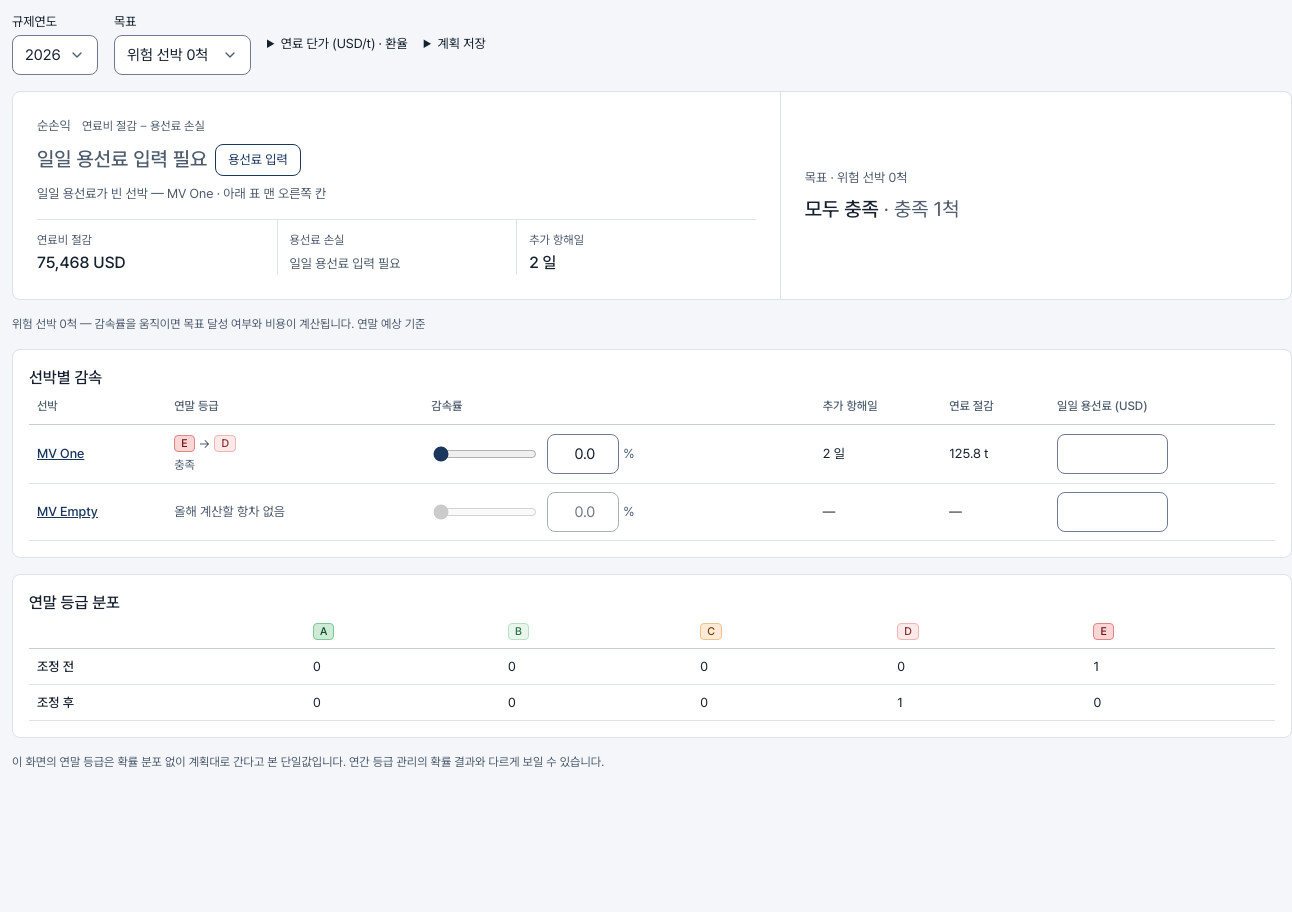
Test: 함대 감축 계획 화면 — 실패해도 빠져나올 수 있다 (#1069) › ⚠️ 계산이 실패해도 마지막 결과와 입력 칸이 남고, 그 사실을 적고, 다시 시도할 수 있다
The image size is (1292, 912).
Set the slider named "MV One 감속률" to "10" at (459,454), box 433,446 -> 537,462
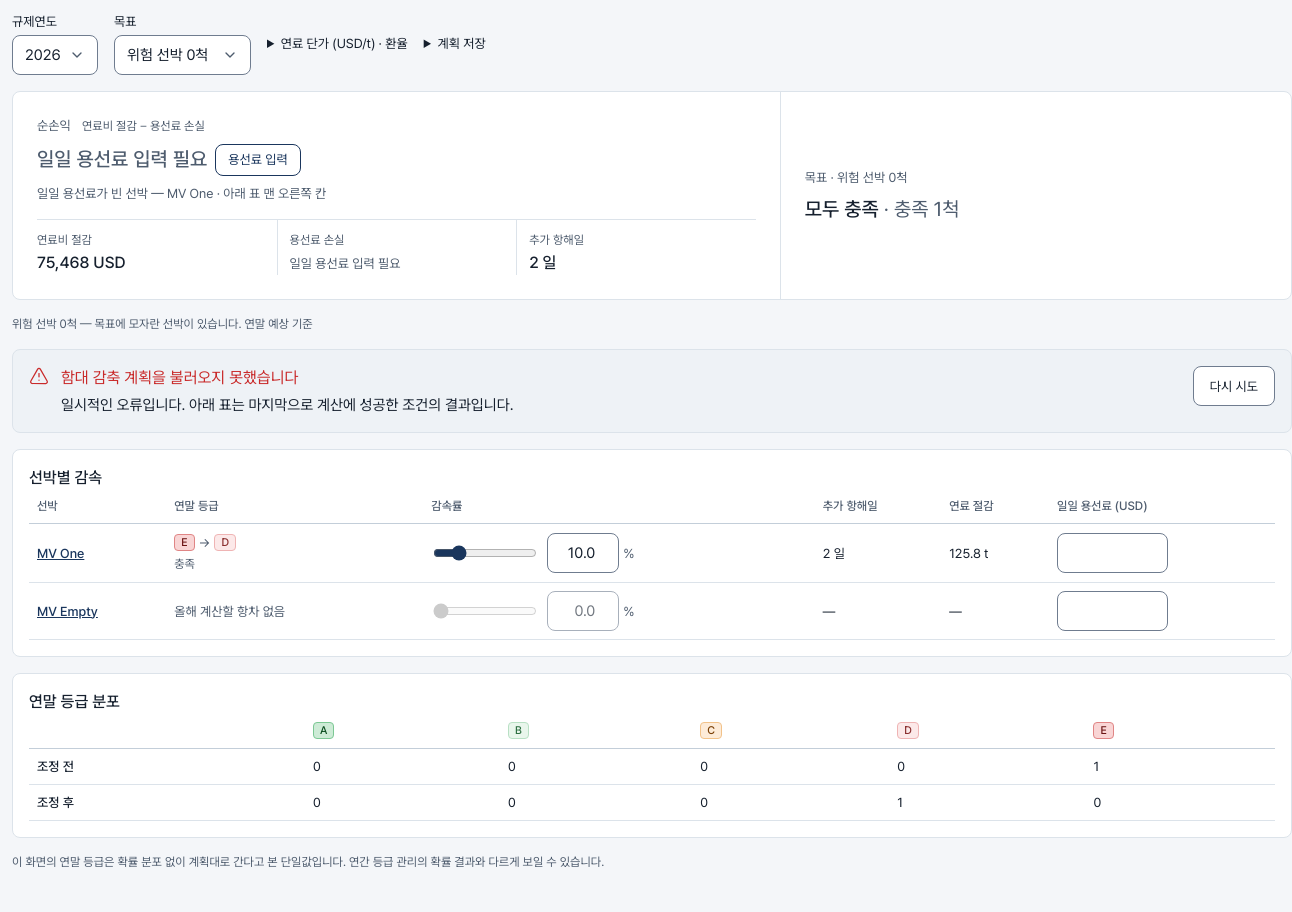
Result: the message "함대 감축 계획을 불러오지 못했습니다 일시적인 오류입니다. 아래 표는 마지막으로 계산에 성공한 조건의 결과입니다. 다시 시도" is shown at 12,349 -> 1291,433
Click the button "다시 시도" at (1234,386), box 1193,366 -> 1275,406
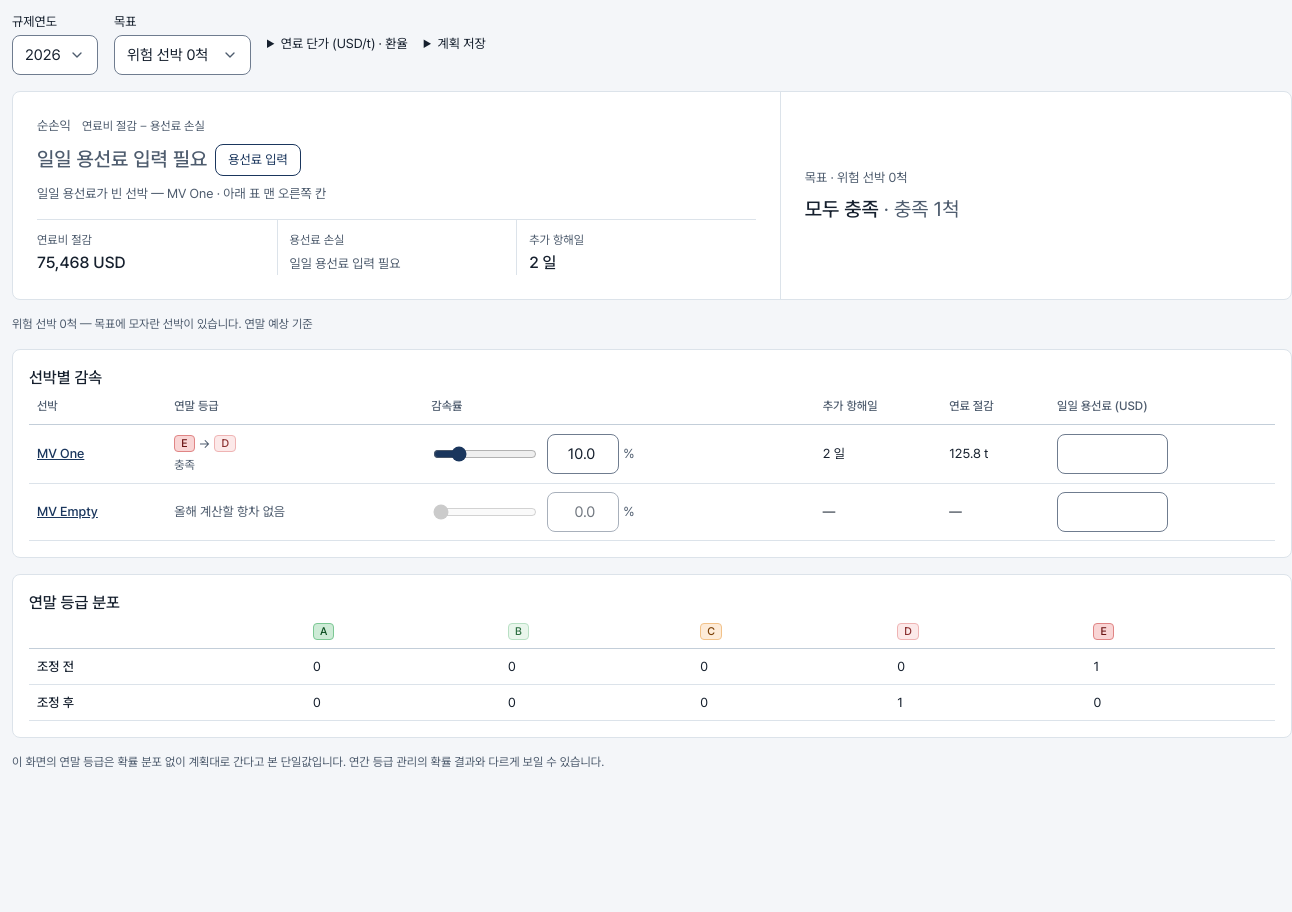
Result: the text "일시적인 오류입니다" is gone
